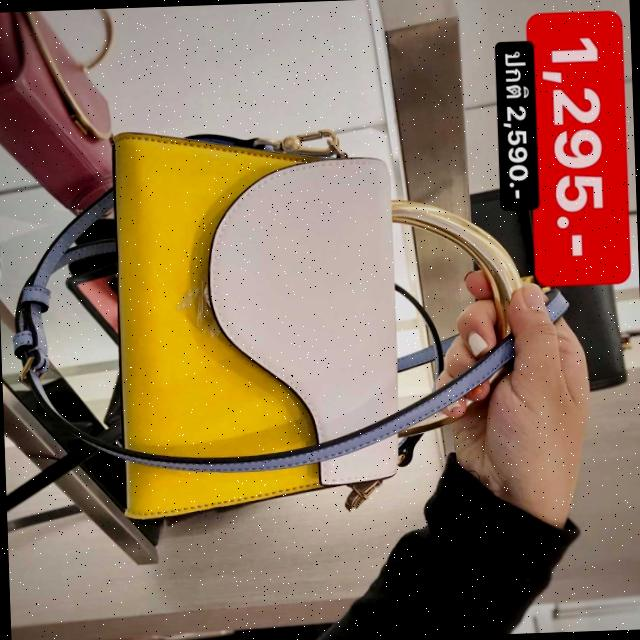Handbag: (108, 111, 528, 522)
